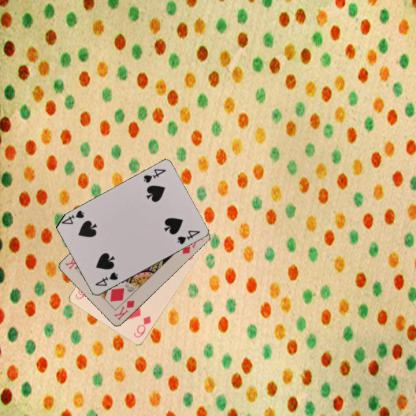4s: (92, 270, 119, 288), (140, 166, 167, 184)
6d: (131, 313, 153, 339)
Kd: (111, 297, 136, 322)
